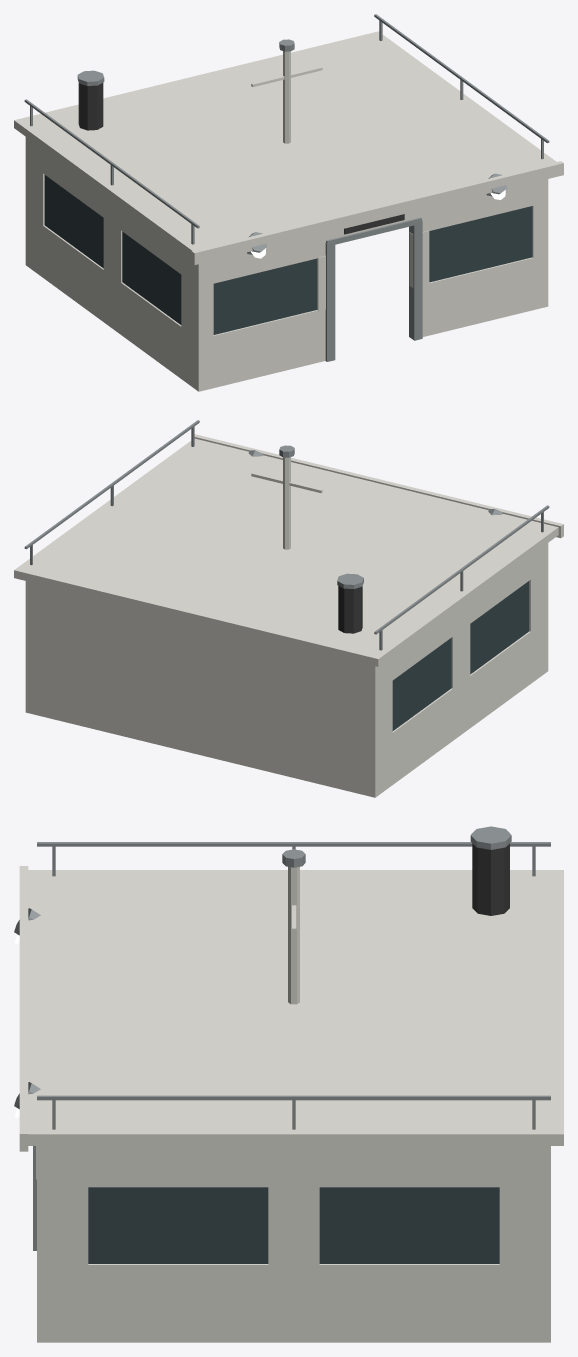
The model's file is boat_cabin.fbx.
3 views of the same model, one above another, from view 1: azimuth 30°, elevation 25°; view 2: azimuth 150°, elevation 25°; view 3: azimuth 270°, elevation 25° (orthographic). The views are drawn at different scales.
Visible parts, largest first — view 1: boat_cabin; view 2: boat_cabin; view 3: boat_cabin.
Part boxes in pixels (x1,y1,x2,y2): boat_cabin: (14,14,563,391); boat_cabin: (14,420,563,797); boat_cabin: (14,826,563,1342).
Size of the model in its own units: 7.4 by 4.66 by 6.42.
